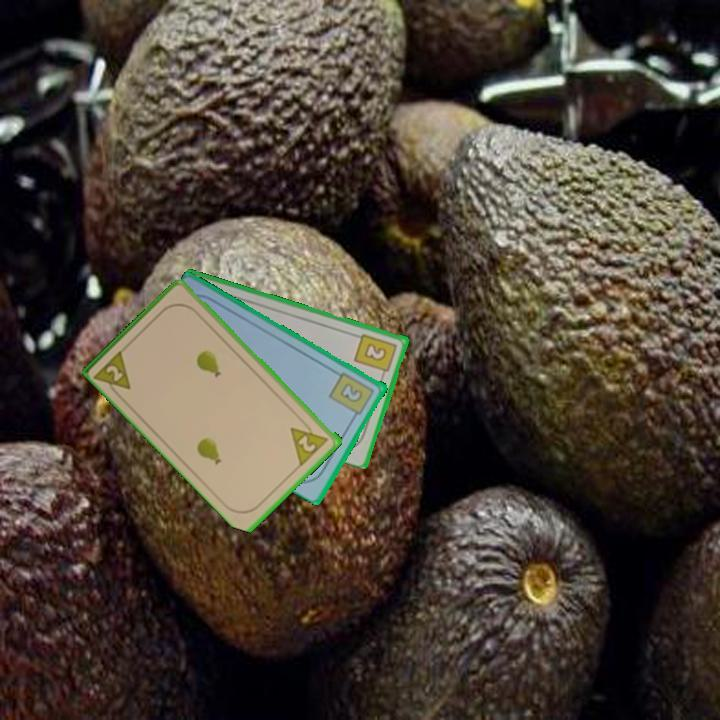2b: (326, 368, 378, 422), (351, 330, 400, 380)
2p: (287, 416, 333, 468), (102, 361, 127, 385)
